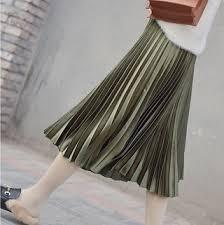skirt: (64, 13, 210, 204)
